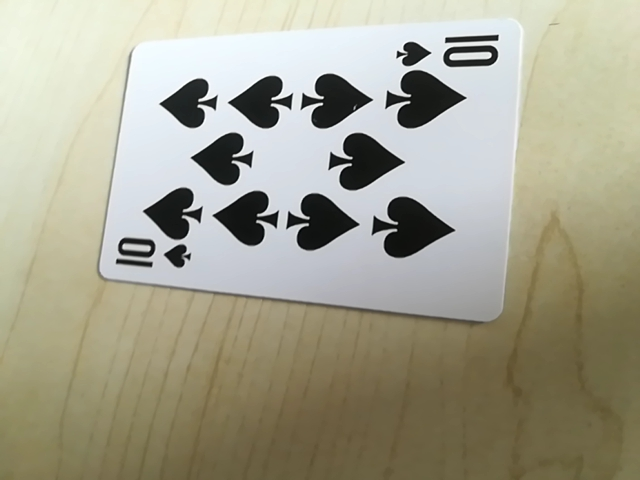ht 10: (394, 25, 506, 72), (110, 234, 197, 279)
